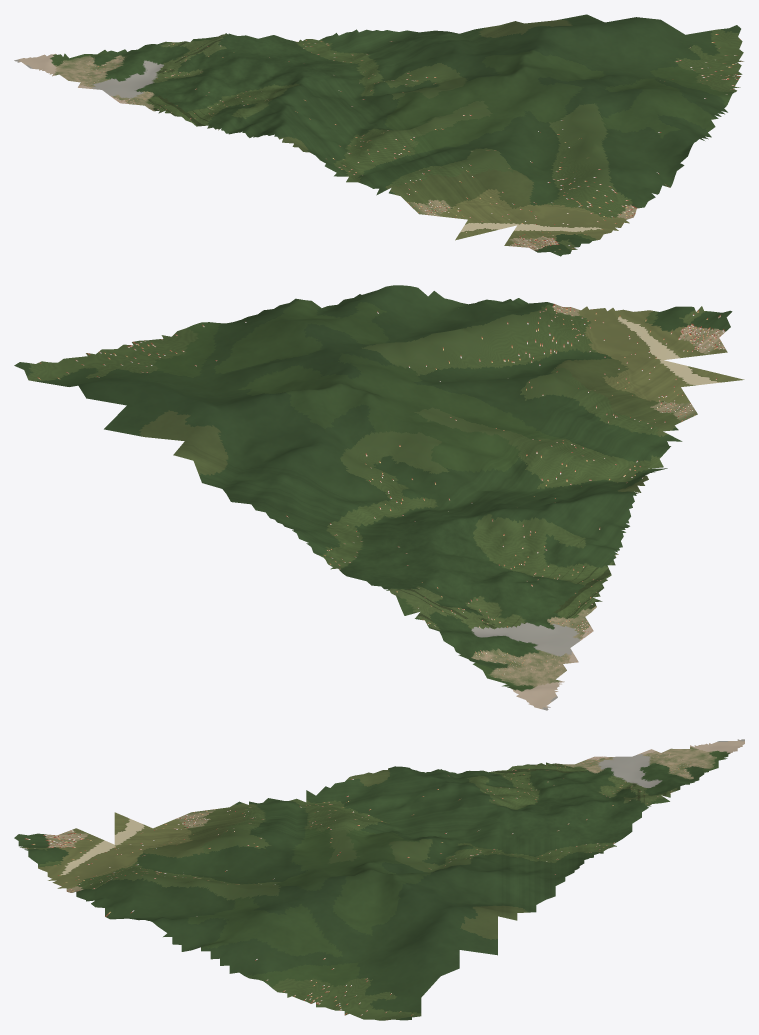
Rendered from SM_Fondale_Colline_N.fbx.
3 renders of one model, top to bottom at view 1: azimuth 30°, elevation 25°; view 2: azimuth 150°, elevation 25°; view 3: azimuth 270°, elevation 25°, orthographic. The views are drawn at different scales.
Parts seen in each view (by area): view 1: SM_Fondale_Colline_N; view 2: SM_Fondale_Colline_N; view 3: SM_Fondale_Colline_N.
Part boxes in pixels (x1,y1,x2,y2): SM_Fondale_Colline_N: (14,14,743,256); SM_Fondale_Colline_N: (14,285,744,710); SM_Fondale_Colline_N: (14,739,744,1020).
Size of the model in its own units: 870000 by 915000 by 60585.
Materials: 1 (1 with a texture image).
